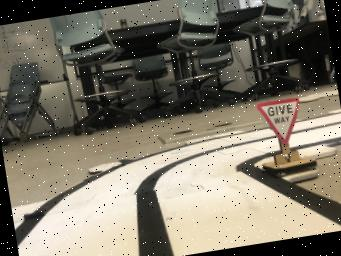give_way: (256, 97, 316, 174), (256, 97, 316, 174), (256, 97, 316, 174)
street: (17, 138, 341, 256), (17, 138, 341, 256), (17, 138, 341, 256)
